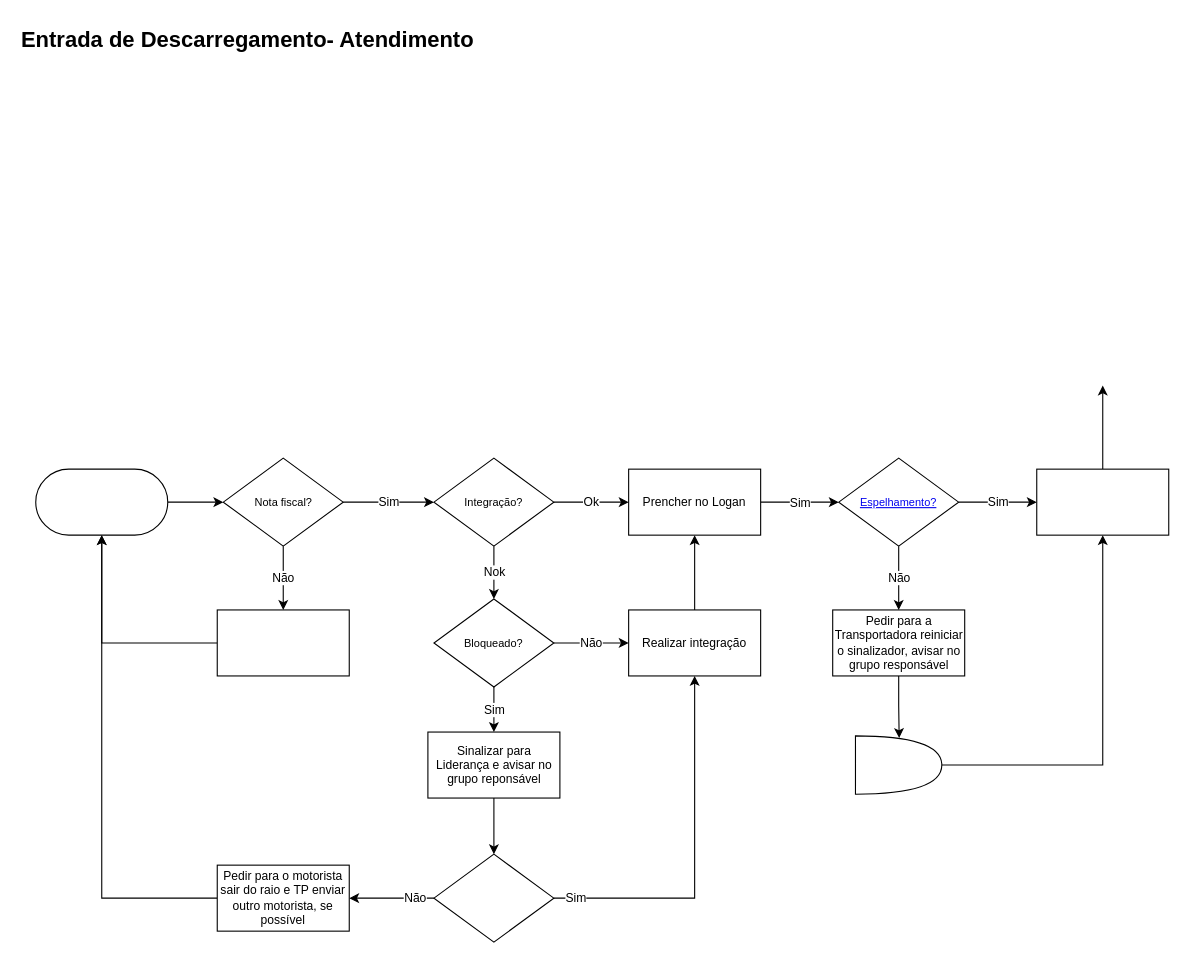
Some shapes in this 1188 by 961 pixel diagram are drawn without their labels. The shapes that lost their labels are listed below. From the top down, each one's centre as x and y in pixels, then its label:
At pixel 101 501: "Motorista chega no Atendimento".
At pixel 1102 501: "Bipar todas as NFs no Web Monitor Portaria [LOG84] [LOG52]".
At pixel 282 642: "Pedir para o Motorista sair do raio".
At pixel 898 764: "Esperar 5 min".
At pixel 493 897: "Liderança liberou?".
